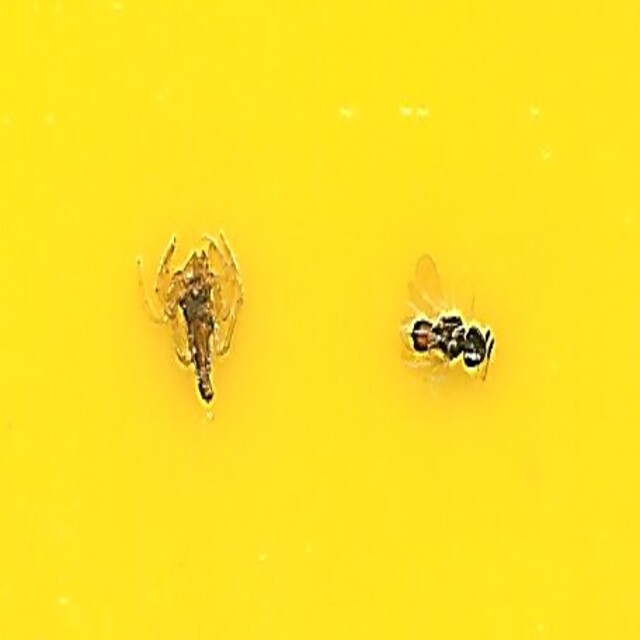Araneae: (140, 229, 248, 411)
Hymenoptera: (408, 268, 500, 383)
